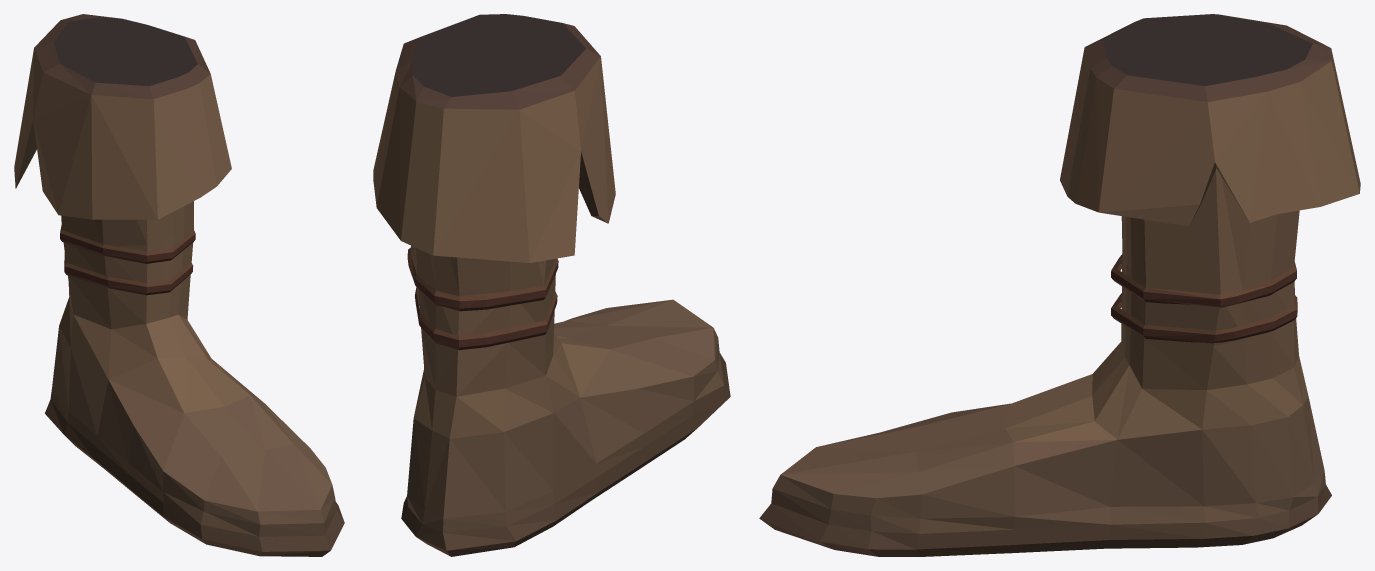
The model's file is hunterBoots.glb.
3 renders of one model, left to right at view 1: azimuth 30°, elevation 25°; view 2: azimuth 150°, elevation 25°; view 3: azimuth 270°, elevation 25°, orthographic. The views are drawn at different scales.
Parts seen in each view (by area): view 1: hunterBootLowerLeg, hunterBootFootLeg; view 2: hunterBootLowerLeg, hunterBootFootLeg; view 3: hunterBootLowerLeg, hunterBootFootLeg.
Part boxes in pixels (x1,y1,x2,y2): hunterBootLowerLeg: [14, 14, 231, 329]; hunterBootFootLeg: [45, 297, 344, 556]; hunterBootLowerLeg: [373, 14, 615, 396]; hunterBootFootLeg: [401, 299, 730, 556]; hunterBootLowerLeg: [1060, 14, 1360, 390]; hunterBootFootLeg: [759, 342, 1331, 556].
Size of the model in its own units: 0.1735 by 0.3685 by 0.4307.
